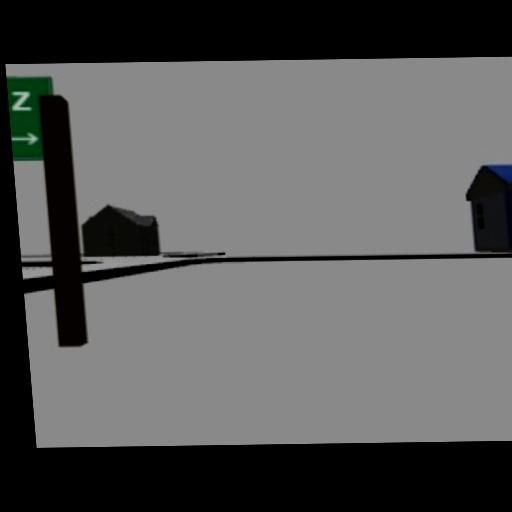Right: (11, 130, 40, 146)
Z: (9, 89, 34, 113)
